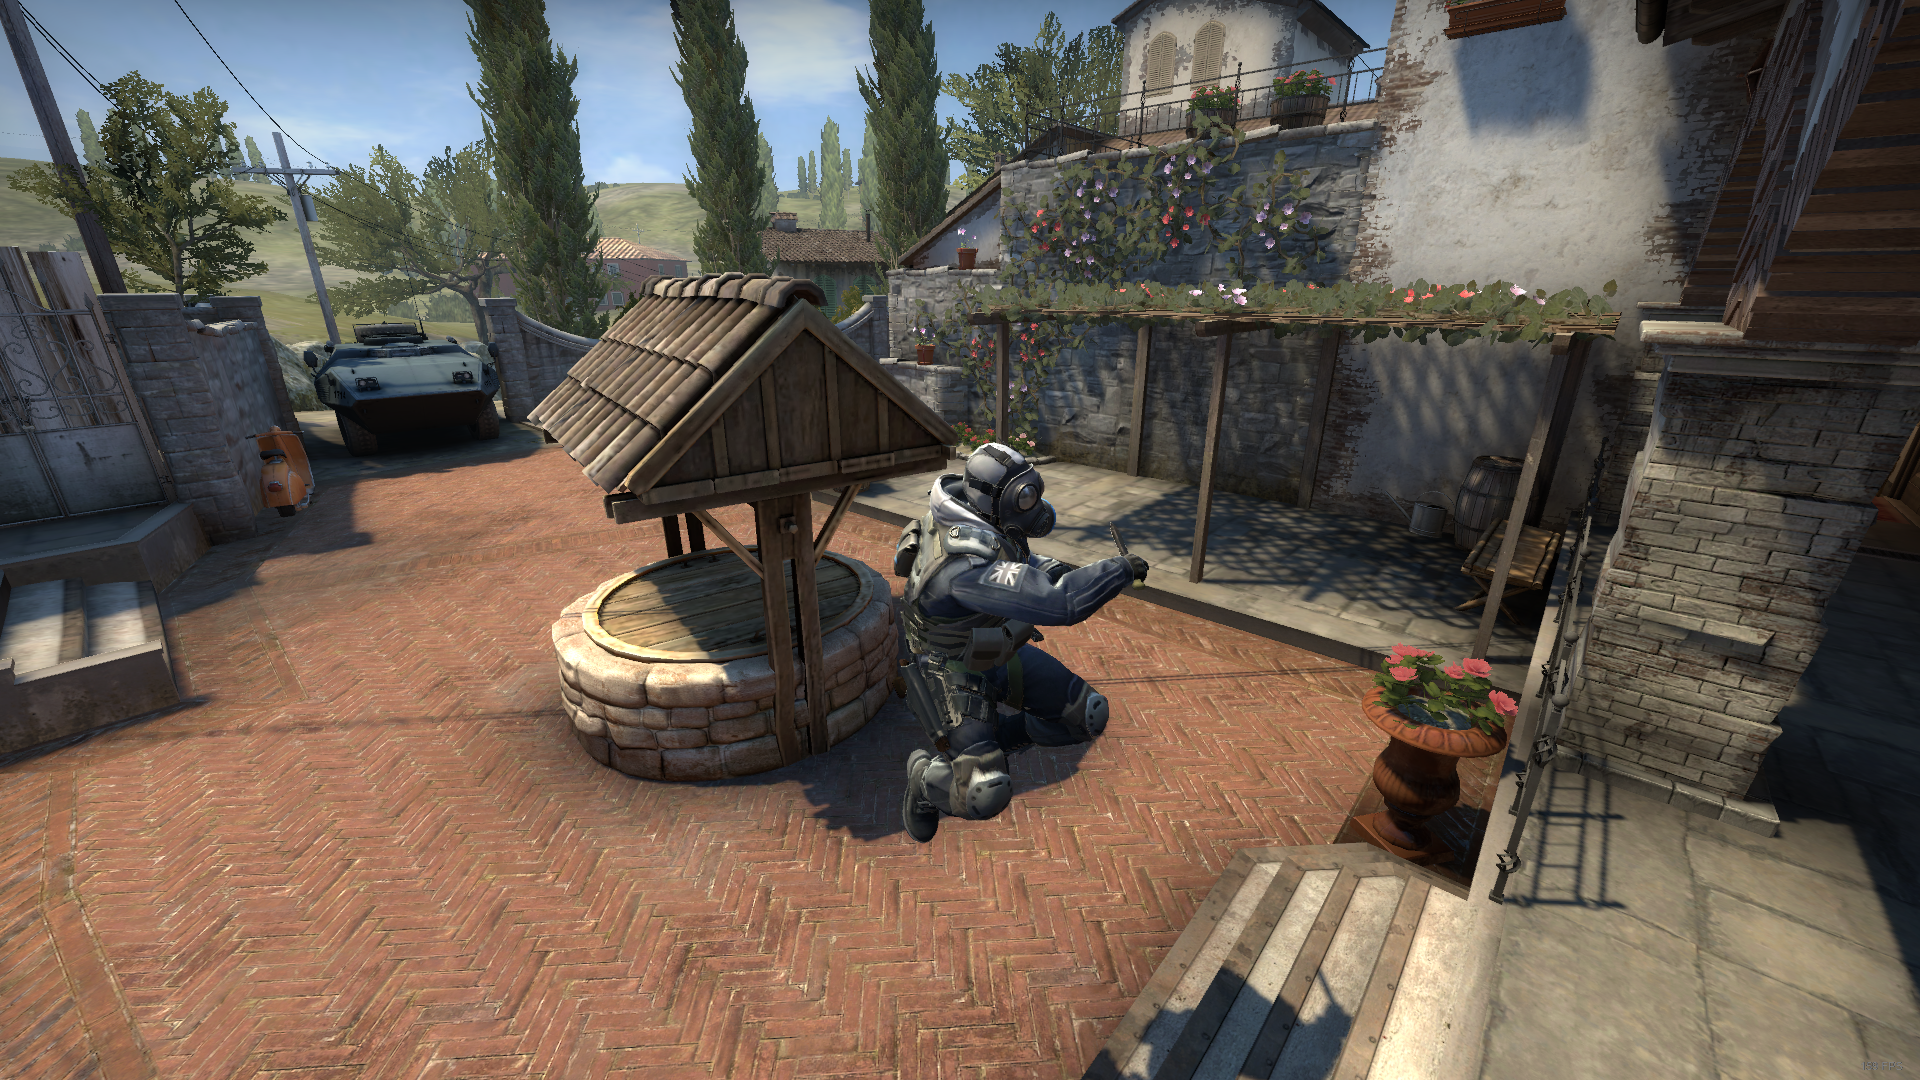ct: (891, 440, 1156, 848)
